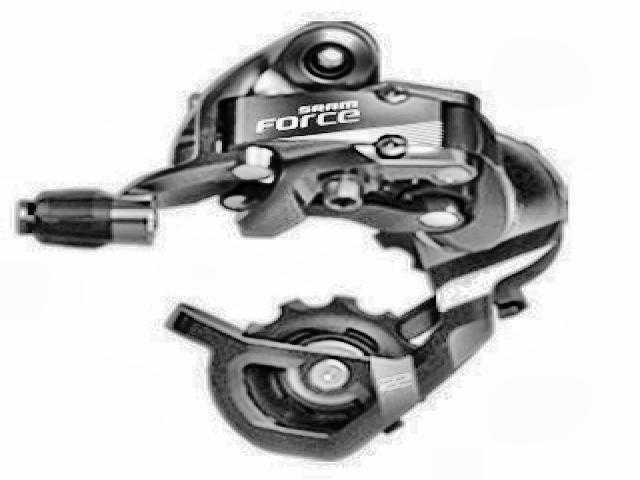rear_derailleur: (19, 18, 579, 465)
